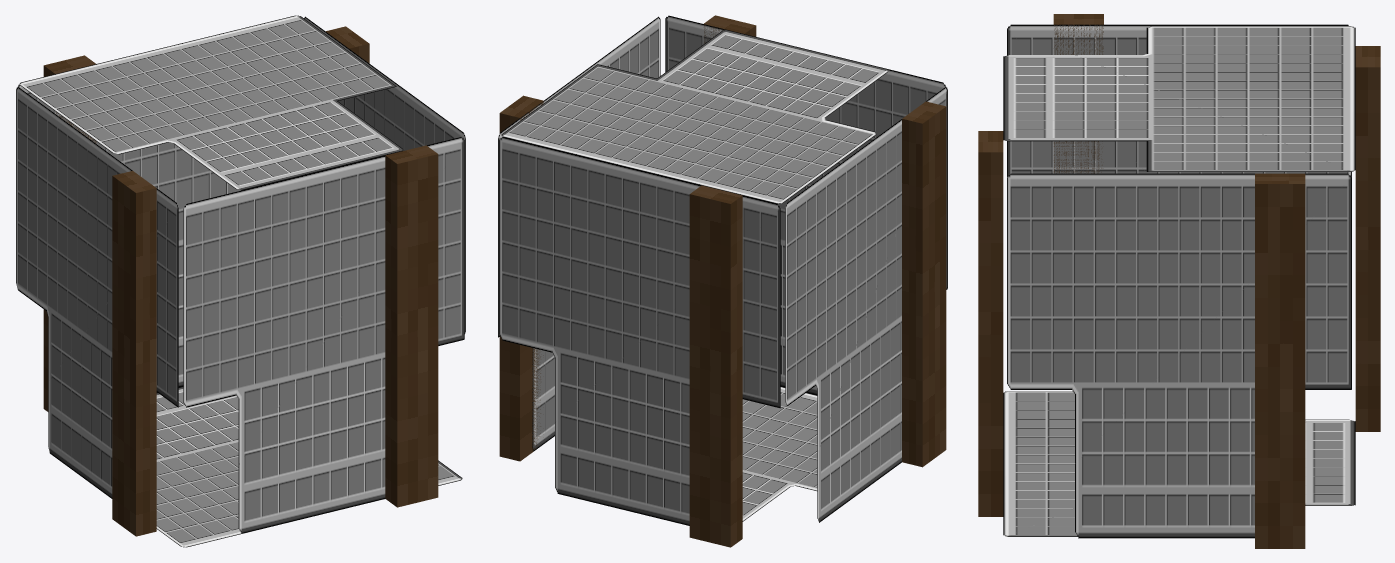
Rendered from tiny_storage.obj.
3 views of the same model, side by side, from view 1: azimuth 30°, elevation 25°; view 2: azimuth 150°, elevation 25°; view 3: azimuth 270°, elevation 25° (orthographic). The views are drawn at different scales.
Visible parts, largest first — view 1: base, pillar; view 2: base, pillar; view 3: base, pillar.
Boxes of the visible parts, left/top/right/bottom form: base: left=16, top=15, right=465, bottom=547; pillar: left=43, top=26, right=438, bottom=536; base: left=498, top=15, right=947, bottom=525; pillar: left=499, top=15, right=946, bottom=547; base: left=1003, top=24, right=1355, bottom=538; pillar: left=978, top=14, right=1380, bottom=548.
Bounding box in the file's own units: 1 × 1 × 1.
